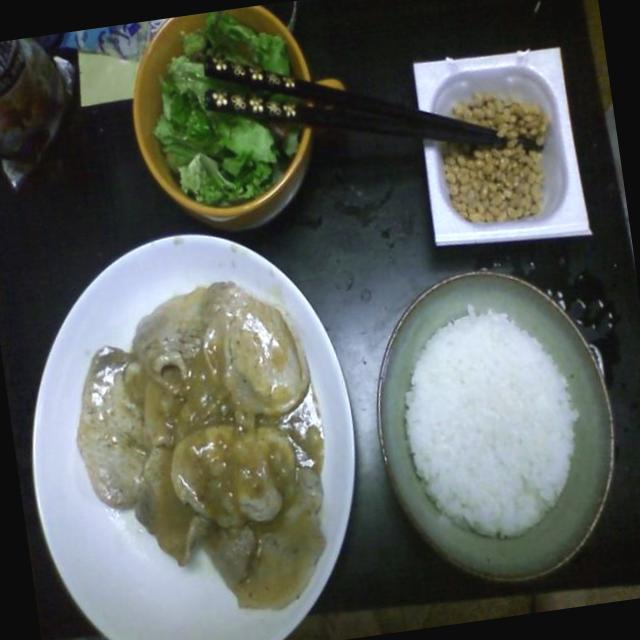Rice: (374, 280, 608, 568)
